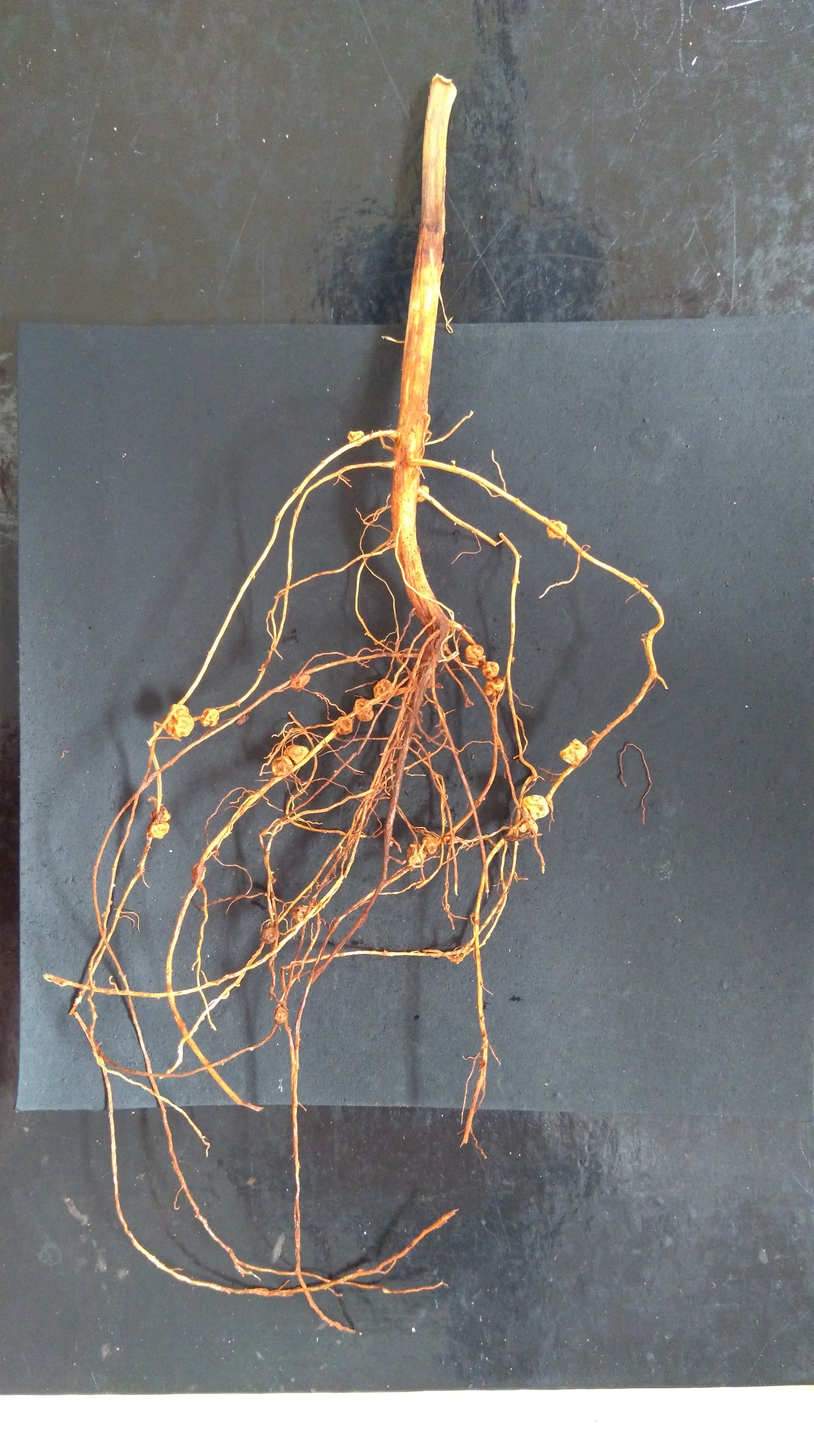nodule: (165, 704, 194, 738), (559, 738, 587, 766), (521, 794, 550, 820), (518, 803, 538, 835), (405, 840, 426, 867), (283, 744, 310, 765), (271, 755, 294, 777), (353, 698, 374, 722), (373, 679, 395, 701), (546, 520, 567, 539), (484, 677, 505, 696), (148, 820, 169, 839), (333, 716, 353, 735), (190, 861, 206, 884), (200, 708, 219, 727), (465, 644, 484, 663), (290, 672, 310, 690), (150, 805, 170, 822), (481, 661, 499, 678), (291, 904, 308, 922), (347, 430, 364, 447), (422, 836, 438, 854), (260, 926, 276, 944), (274, 1005, 287, 1025), (417, 485, 429, 502), (471, 655, 486, 666), (236, 714, 249, 725), (434, 682, 444, 689), (510, 655, 515, 664), (478, 796, 485, 802), (271, 876, 276, 884), (270, 892, 274, 898)
